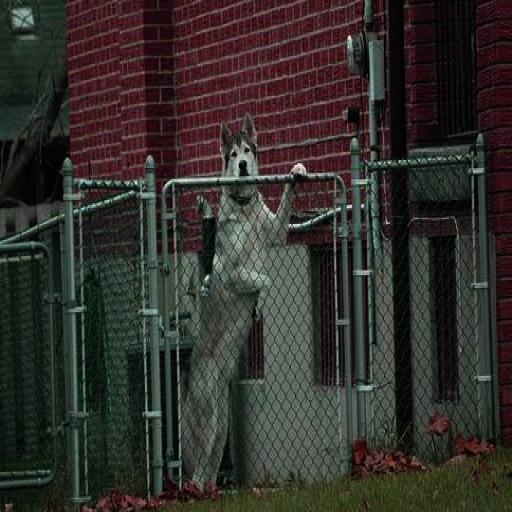dog_face: (214, 114, 260, 193)
